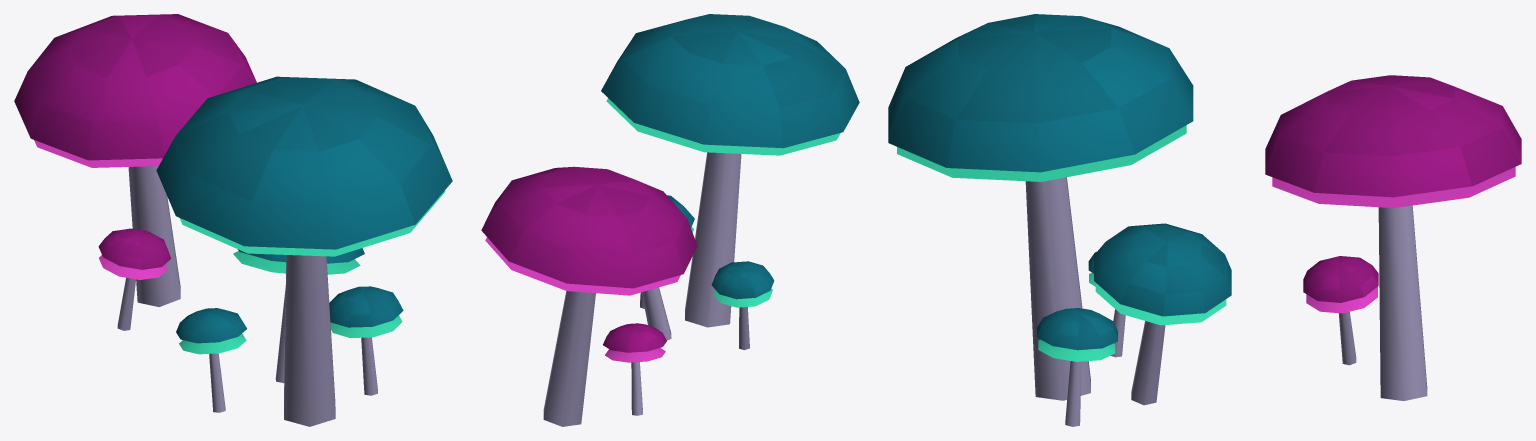
The model's file is MODULE_ALIEN_FULL_2_SHROOMS.fbx.
3 renders of one model, left to right at view 1: azimuth 30°, elevation 25°; view 2: azimuth 150°, elevation 25°; view 3: azimuth 270°, elevation 25°, orthographic. The views are drawn at different scales.
Parts seen in each view (by area): view 1: MODULE_ALIEN_FULL_2_SHROOMS_DECOR__export; view 2: MODULE_ALIEN_FULL_2_SHROOMS_DECOR__export; view 3: MODULE_ALIEN_FULL_2_SHROOMS_DECOR__export.
Boxes of the visible parts, x1,y1,x2,y2 form: MODULE_ALIEN_FULL_2_SHROOMS_DECOR__export: [14, 14, 452, 426]; MODULE_ALIEN_FULL_2_SHROOMS_DECOR__export: [481, 14, 859, 426]; MODULE_ALIEN_FULL_2_SHROOMS_DECOR__export: [888, 14, 1521, 426].
Size of what is drawn, in the model's own units: 19.07 by 22.95 by 37.66.
